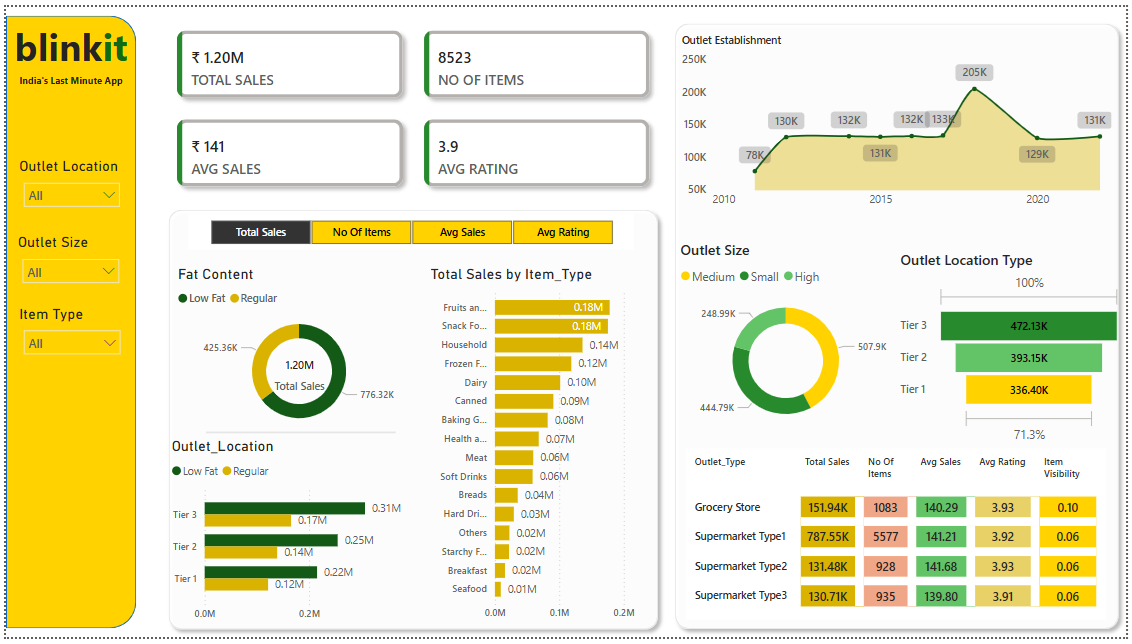

What the dashboard file says about the page in this screenshot:
{"tool":"powerbi","page":{"name":"BlinkIT","canvas":[1280,720],"ordinal":0},"visuals":[{"type":"shape","box":[0,10,148.8,700],"z":0},{"type":"textbox","box":[0,10,148.8,75],"z":1000},{"type":"textbox","box":[0,68.8,148.8,35],"z":2000},{"type":"shape","box":[177.3,222.6,577.2,497.7],"z":3000},{"type":"slicer","fields":{"Values":["Metrics.Metrics"]},"box":[207.9,237.2,508.7,40.4],"z":4000},{"type":"donutChart","title":"Fat Content","fields":{"Y":["BlinkIT Grocery Data.Total Sales"],"Category":["BlinkIT Grocery Data.Item_Fat_Content"]},"box":[192,294.7,287.4,196.9],"z":5000},{"type":"card","fields":{"Values":["BlinkIT Grocery Data.Total Sales"]},"box":[293.5,391.3,85.6,57.5],"z":6000},{"type":"clusteredBarChart","title":" Outlet_Location","fields":{"Y":["BlinkIT Grocery Data.Total Sales"],"Category":["BlinkIT Grocery Data.Outlet_Location_Type"],"Series":["BlinkIT Grocery Data.Item_Fat_Content"]},"box":[184.6,491.6,287.4,218.9],"z":7000},{"type":"clusteredBarChart","fields":{"Y":["BlinkIT Grocery Data.Total Sales"],"Category":["BlinkIT Grocery Data.Item_Type"]},"box":[479.4,294.7,264.1,415.8],"z":8000},{"type":"shape","box":[755,10,525,710],"z":9000},{"type":"areaChart","title":"Outlet Establishment","fields":{"Y":["Sum(BlinkIT Grocery Data.Sales)"],"Category":["BlinkIT Grocery Data.Outlet_Establishment_Year"]},"box":[767.5,30,501.2,208.8],"z":10000},{"type":"funnel","title":"Outlet Location Type","fields":{"Y":["BlinkIT Grocery Data.Total Sales"],"Category":["BlinkIT Grocery Data.Outlet_Location_Type"]},"box":[1017.5,277.5,262.5,226.2],"z":11000},{"type":"donutChart","title":"Outlet Size","fields":{"Y":["BlinkIT Grocery Data.Total Sales"],"Category":["BlinkIT Grocery Data.Outlet_Size"]},"box":[766.2,265,251.2,226.2],"z":12000},{"type":"shape","box":[228.7,481.8,216.4,9.8],"z":13000},{"type":"pivotTable","fields":{"Rows":["BlinkIT Grocery Data.Outlet_Type"],"Values":["BlinkIT Grocery Data.Total Sales","BlinkIT Grocery Data.No Of Items","BlinkIT Grocery Data.Avg Sales","BlinkIT Grocery Data.Avg Rating","Avg(BlinkIT Grocery Data.Item_Visibility)"]},"box":[777.5,503.8,480,196.2],"z":14000},{"type":"slicer","title":"Outlet Location","fields":{"Values":["BlinkIT Grocery Data.Outlet_Location_Type"]},"box":[10,171.2,130,81.2],"z":15000},{"type":"cardVisual","fields":{"Data":["BlinkIT Grocery Data.Total Sales","BlinkIT Grocery Data.No Of Items","BlinkIT Grocery Data.Avg Sales","BlinkIT Grocery Data.Avg Rating"]},"box":[178.5,9.8,576,212.8],"z":16000},{"type":"slicer","title":"Outlet Size","fields":{"Values":["BlinkIT Grocery Data.Outlet_Size"]},"box":[8.6,258,130.8,81.9],"z":17000},{"type":"slicer","title":"Item Type","fields":{"Values":["BlinkIT Grocery Data.Item_Type"]},"box":[9.8,339.9,130.8,81.9],"z":18000}]}

Visuals, with their boxes in screenshot pixels (x1, y1, x2, y2), scaled from the page's 1280x720 canvas onto the 1132x644 screenshot:
shape: 0 9 132 635
textbox: 0 9 132 76
textbox: 0 62 132 93
shape: 157 199 667 643
slicer - Metrics.Metrics: 184 212 634 248
"Fat Content" donutChart: 170 264 424 440
card - BlinkIT Grocery Data.Total Sales: 260 350 335 401
" Outlet_Location" clusteredBarChart: 163 440 417 636
clusteredBarChart - BlinkIT Grocery Data.Total Sales x BlinkIT Grocery Data.Item_Type: 424 264 658 636
shape: 668 9 1131 643
"Outlet Establishment" areaChart: 679 27 1122 214
"Outlet Location Type" funnel: 900 248 1131 451
"Outlet Size" donutChart: 678 237 900 439
shape: 202 431 394 440
pivotTable - BlinkIT Grocery Data.Outlet_Type x BlinkIT Grocery Data.Total Sales: 688 451 1112 626
"Outlet Location" slicer: 9 153 124 226
cardVisual - BlinkIT Grocery Data.Total Sales x BlinkIT Grocery Data.No Of Items: 158 9 667 199
"Outlet Size" slicer: 8 231 123 304
"Item Type" slicer: 9 304 124 377
